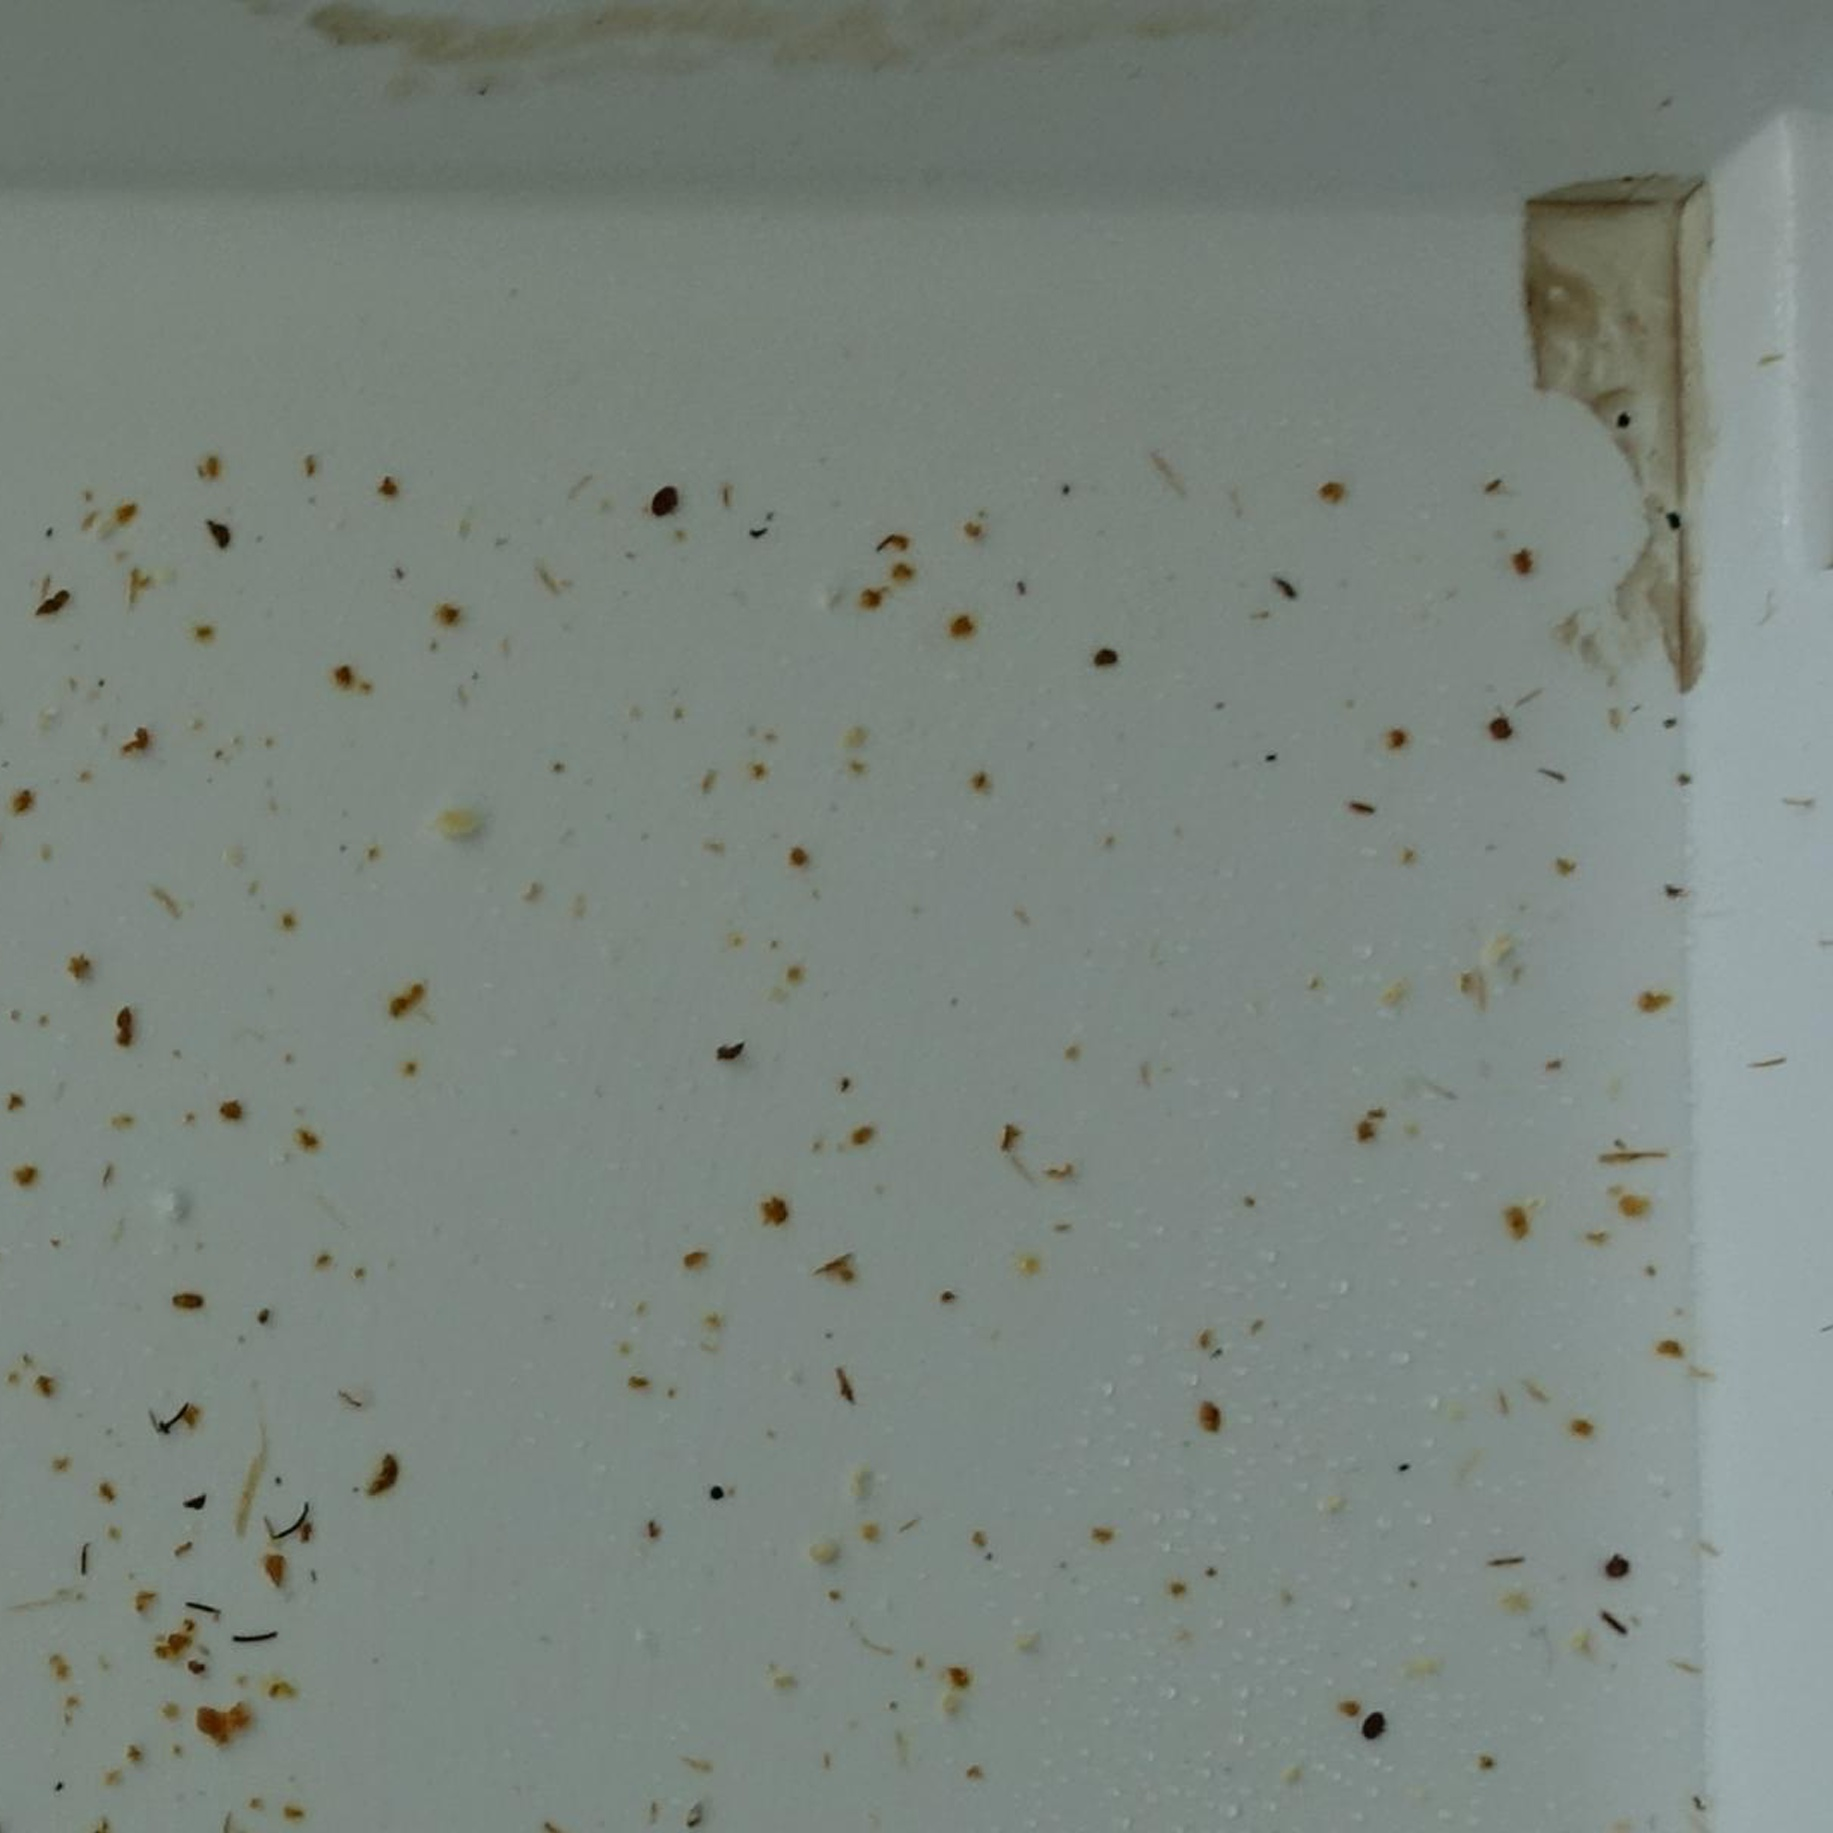Varroa: (646, 487, 675, 514), (1358, 1710, 1383, 1737)
